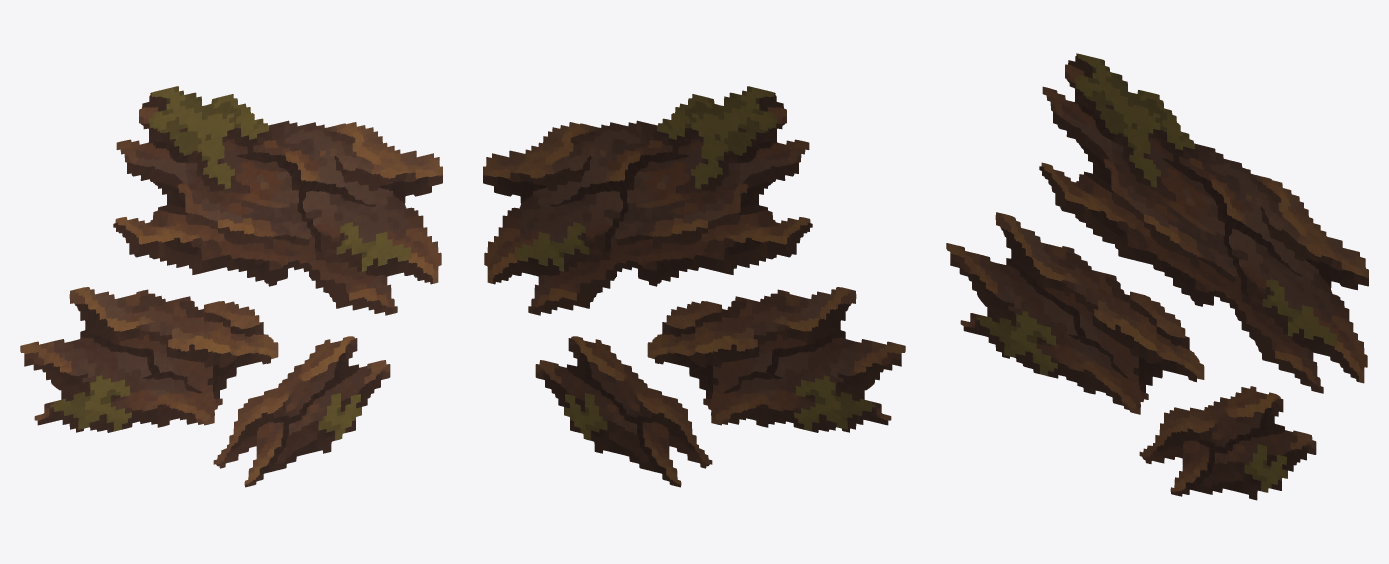
File: SM_D03_BarkSplits.fbx
3 views of the same model, side by side, from view 1: azimuth 30°, elevation 25°; view 2: azimuth 150°, elevation 25°; view 3: azimuth 330°, elevation 25° (orthographic).
Visible parts, largest first — view 1: D03_Decal; view 2: D03_Decal; view 3: D03_Decal.
Boxes of the visible parts, x1=… form: D03_Decal: x1=20, y1=86, x2=442, y2=487; D03_Decal: x1=483, y1=86, x2=905, y2=487; D03_Decal: x1=946, y1=53, x2=1368, y2=500.
Bounding box in the file's own units: 0.55 × 0.5203 × 0.
